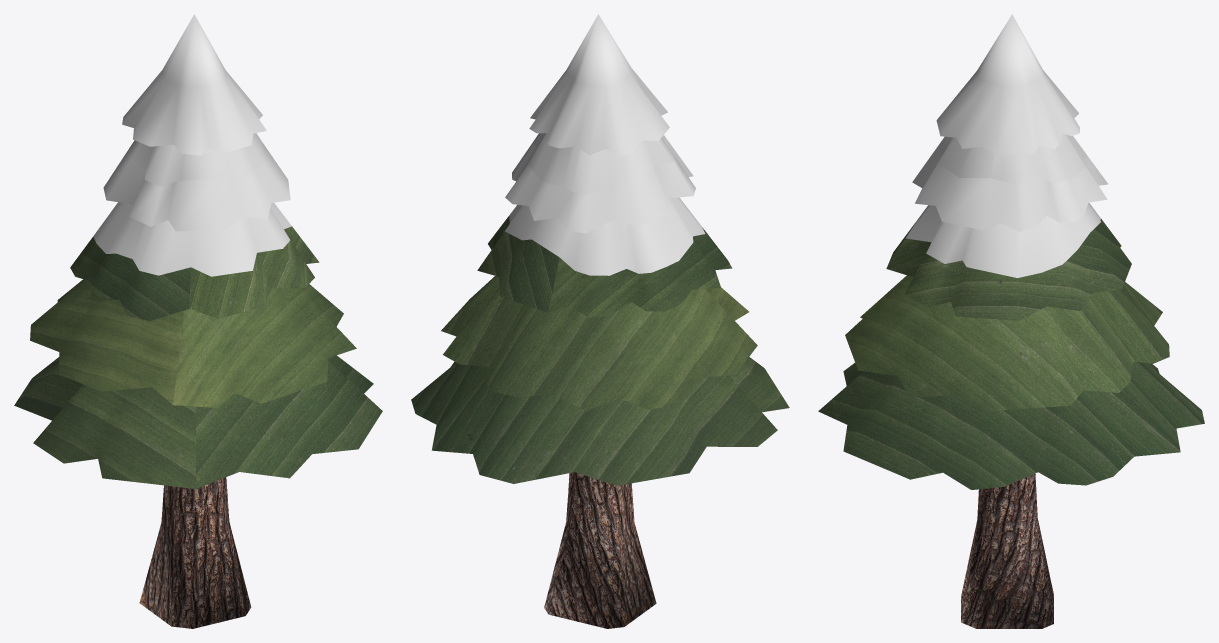
Rendered from tree2_baking.fbx.
3 renders of one model, left to right at view 1: azimuth 30°, elevation 25°; view 2: azimuth 150°, elevation 25°; view 3: azimuth 270°, elevation 25°, orthographic.
Parts seen in each view (by area): view 1: leaf_2_baking, wood_2_baking, Circle.010, Circle.012, Circle.009, Circle.011; view 2: leaf_2_baking, wood_2_baking, Circle.010, Circle.012, Circle.009, Circle.011; view 3: leaf_2_baking, wood_2_baking, Circle.010, Circle.009, Circle.012, Circle.011.
Boxes of the visible parts, x1=… form: leaf_2_baking: x1=14, y1=226, x2=382, y2=488; wood_2_baking: x1=139, y1=477, x2=251, y2=628; Circle.010: x1=122, y1=14, x2=266, y2=155; Circle.012: x1=93, y1=202, x2=291, y2=276; Circle.009: x1=103, y1=143, x2=290, y2=231; Circle.011: x1=128, y1=133, x2=263, y2=186; leaf_2_baking: x1=411, y1=216, x2=789, y2=485; wood_2_baking: x1=544, y1=472, x2=656, y2=628; Circle.010: x1=529, y1=14, x2=669, y2=155; Circle.012: x1=505, y1=197, x2=705, y2=275; Circle.009: x1=505, y1=139, x2=695, y2=233; Circle.011: x1=528, y1=133, x2=674, y2=194; leaf_2_baking: x1=818, y1=219, x2=1204, y2=489; wood_2_baking: x1=961, y1=473, x2=1053, y2=628; Circle.010: x1=936, y1=14, x2=1079, y2=155; Circle.009: x1=912, y1=144, x2=1107, y2=231; Circle.012: x1=906, y1=203, x2=1100, y2=277; Circle.011: x1=938, y1=133, x2=1087, y2=184.
Size of the model in its own units: 377 by 665 by 392.
